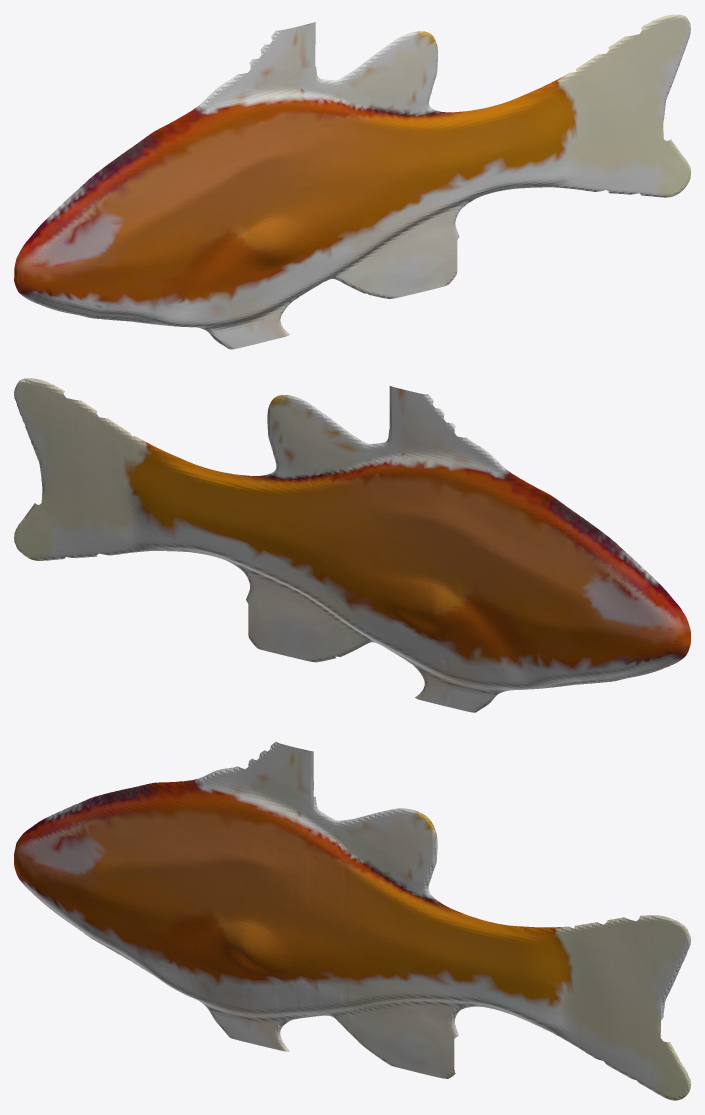
File: fish_3.glb
The picture shows the model from 3 angles, top to bottom: view 1: azimuth 30°, elevation 25°; view 2: azimuth 150°, elevation 25°; view 3: azimuth 330°, elevation 25°; orthographic projection.
Visible parts, largest first — view 1: geometry_0; view 2: geometry_0; view 3: geometry_0.
Part boxes in pixels (x1,y1,x2,y2): geometry_0: (14,14,690,349); geometry_0: (14,378,690,712); geometry_0: (14,742,690,1100).
Size of the model in its own units: 0.9062 by 0.393 by 0.0601.
